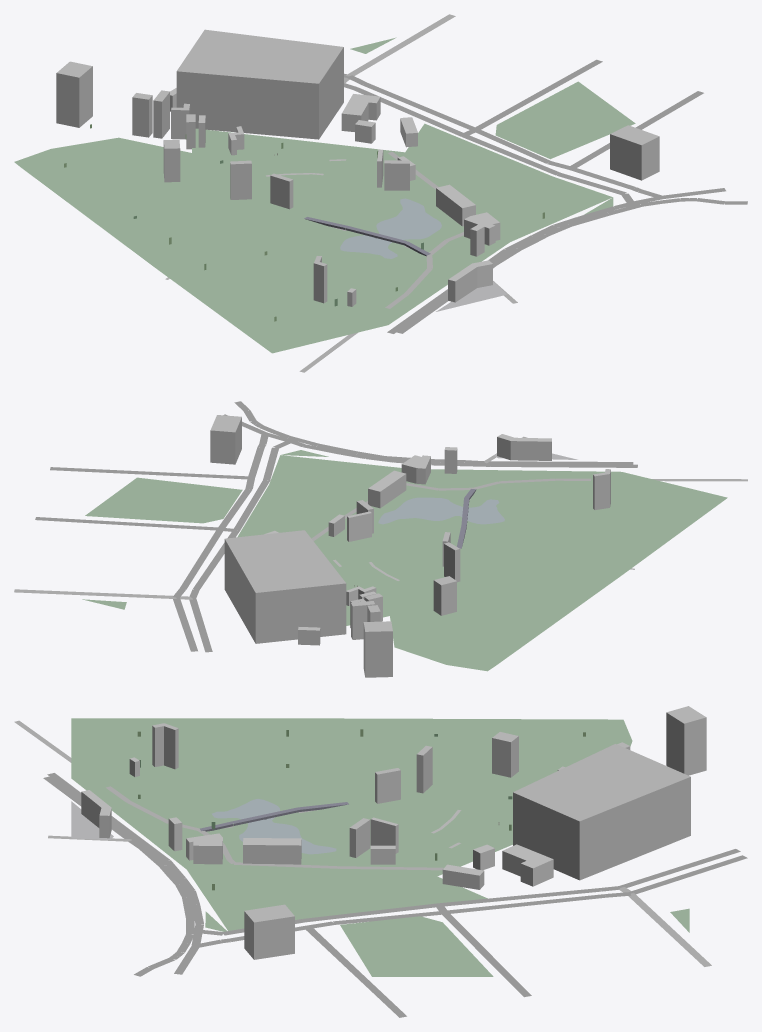
3 views of the same model, one above another, from view 1: azimuth 30°, elevation 25°; view 2: azimuth 150°, elevation 25°; view 3: azimuth 270°, elevation 25° (orthographic). The views are drawn at different scales.
Bounding box in the file's own units: 583 × 54.44 × 594.
